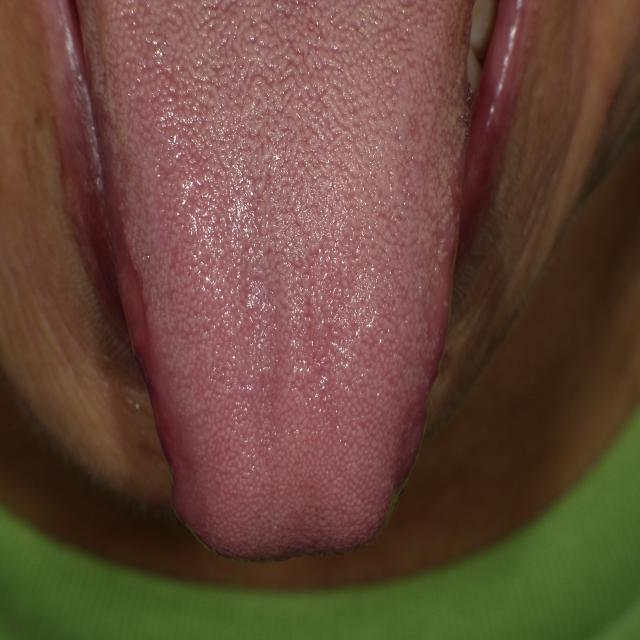baitaishe: (76, 1, 475, 561)
